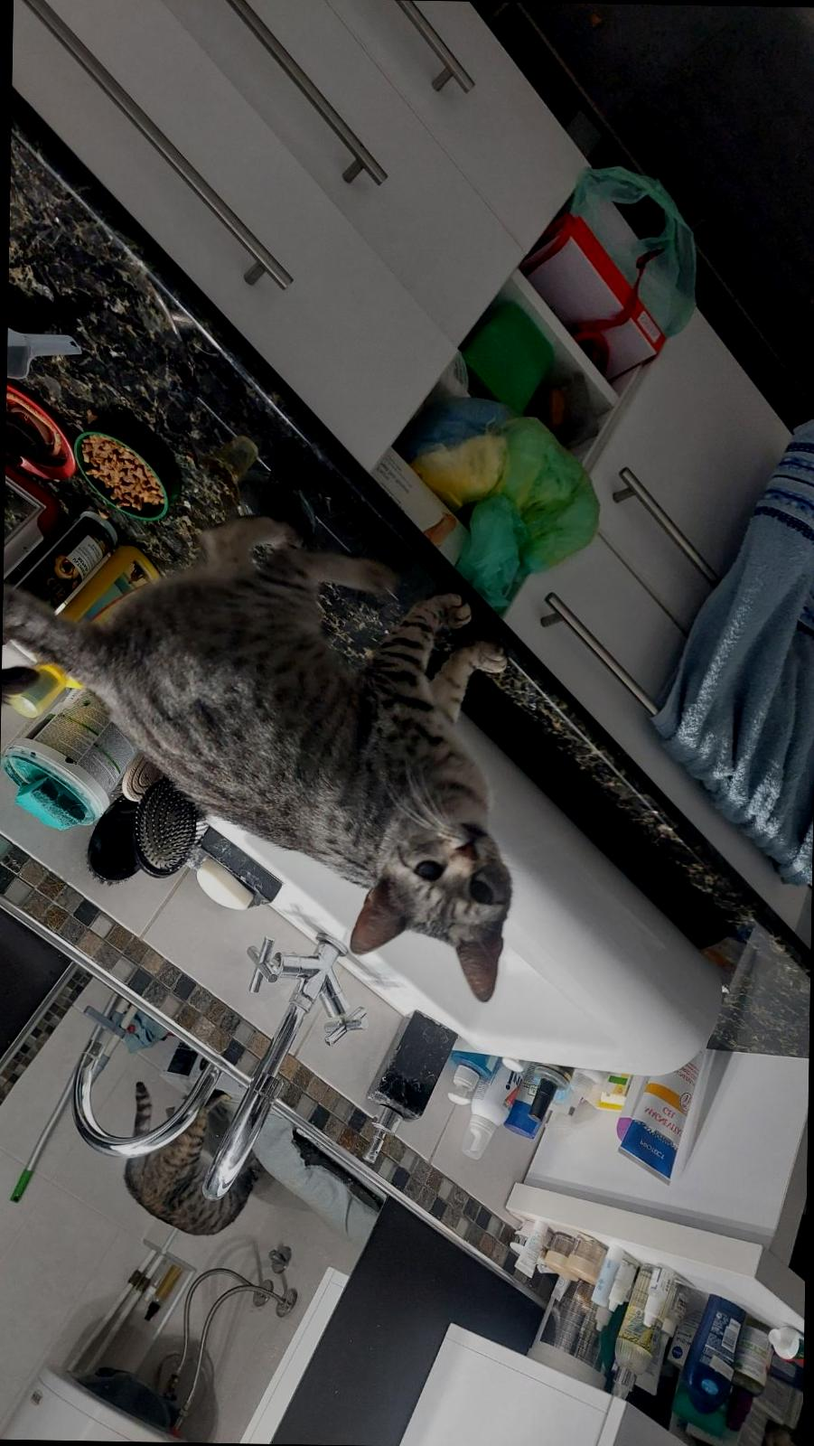macka: (0, 507, 519, 1003)
